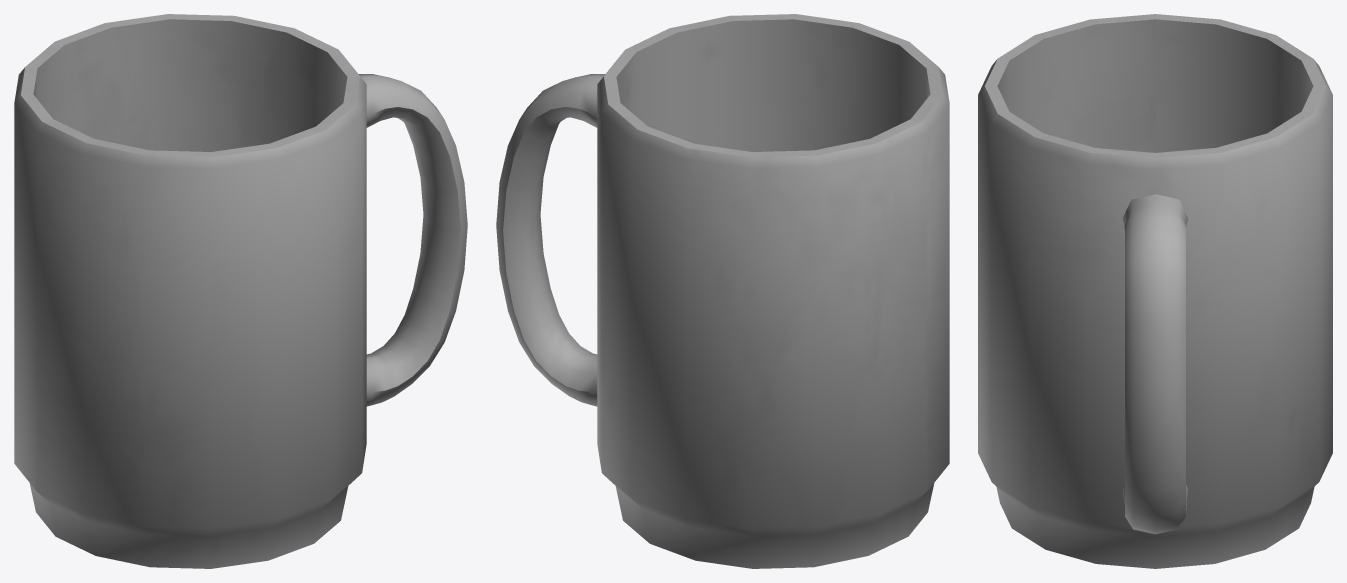
Rendered from Prop_Mug.glb.
The picture shows the model from 3 angles, left to right: view 1: azimuth 30°, elevation 25°; view 2: azimuth 150°, elevation 25°; view 3: azimuth 270°, elevation 25°; orthographic projection.
Visible parts, largest first — view 1: Prop_Mug; view 2: Prop_Mug; view 3: Prop_Mug.
Part boxes in pixels (x1,y1,x2,y2): Prop_Mug: (14, 14, 467, 568); Prop_Mug: (496, 14, 949, 568); Prop_Mug: (978, 14, 1332, 568).
Bounding box in the file's own units: 0.1825 × 0.1718 × 0.1324.
Materials: 1 (1 with a texture image).
